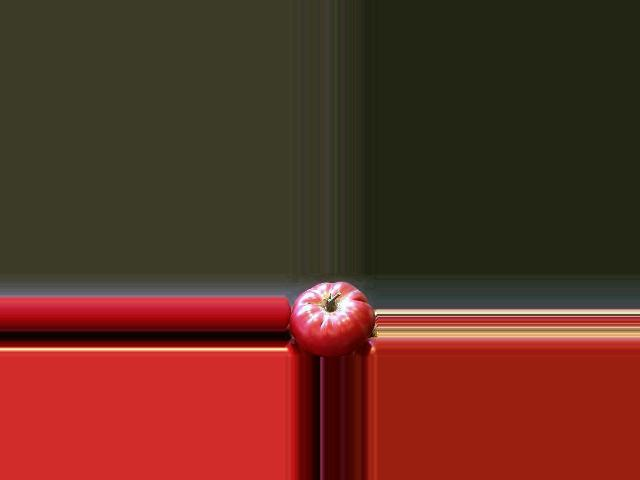tomato: (290, 282, 375, 357)
